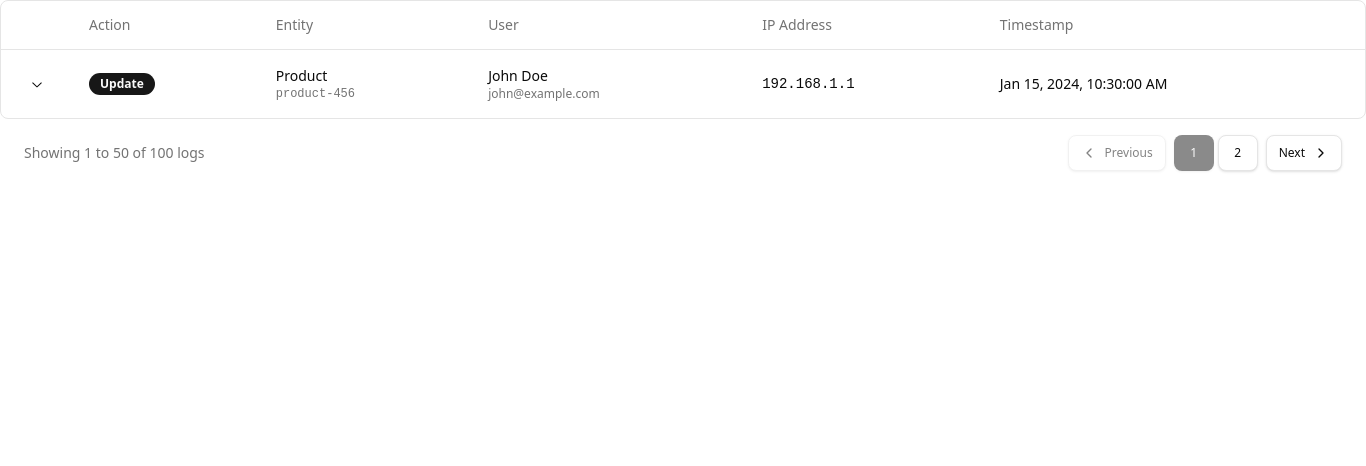
Test case: AuditLogsTable › should expand row when chevron button clicked
Expected: the text "Product" is shown, [276,66,327,84]
Expected: the text "Old Name" is not shown
Note: Click expand button
Click the button named "expand row" at (37, 84), box [17,66,57,102]
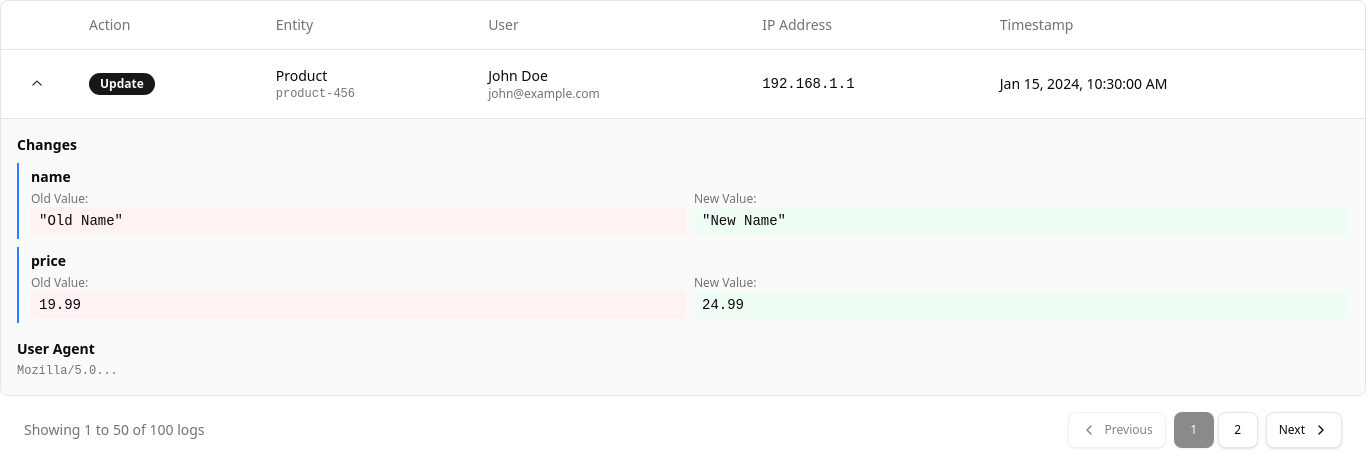
Expected: the text "\"Old Name\"" is shown, [31,206,686,234]
Expected: the text "\"New Name\"" is shown, [694,206,1349,234]
Expected: the text "name" is shown, [31,166,71,186]
